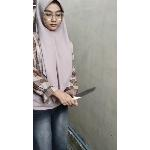Pisau: (66, 85, 98, 105)
